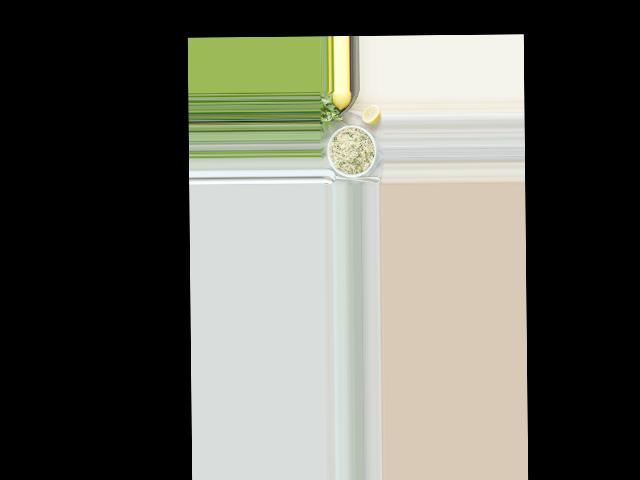lemon: (333, 91, 349, 108)
